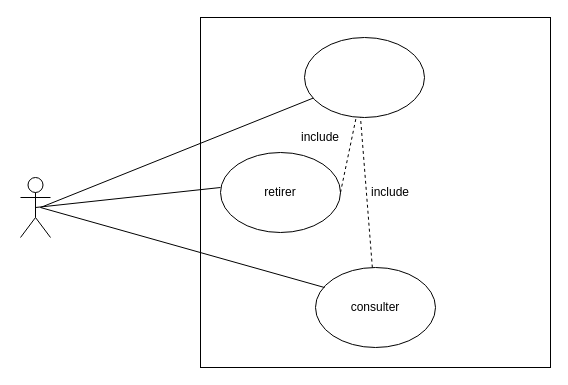
Some shapes in this 568 by 385 pixel diagram are drawn without their labels. Each missing label, with the centre of its shape:
Prince: point 35,207
se connecter: point 364,77
